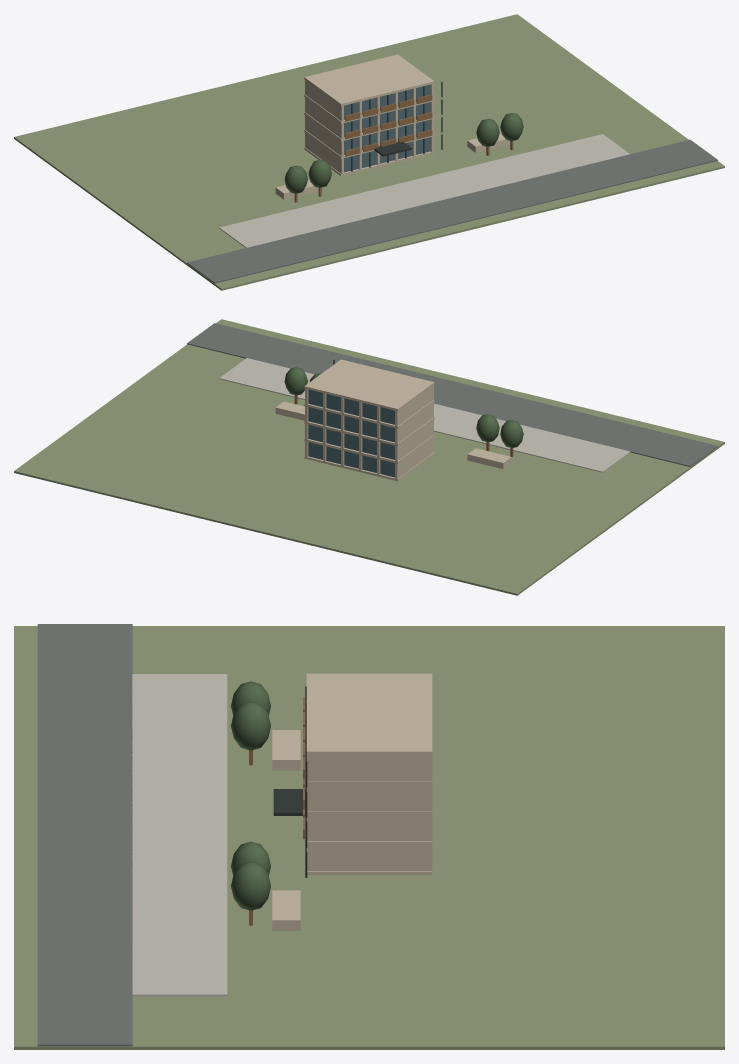
File: exterior.glb
The picture shows the model from 3 angles, top to bottom: view 1: azimuth 30°, elevation 25°; view 2: azimuth 150°, elevation 25°; view 3: azimuth 270°, elevation 25°; orthographic projection. The views are drawn at different scales.
Size of the model in its own units: 42 by 5.92 by 30.
